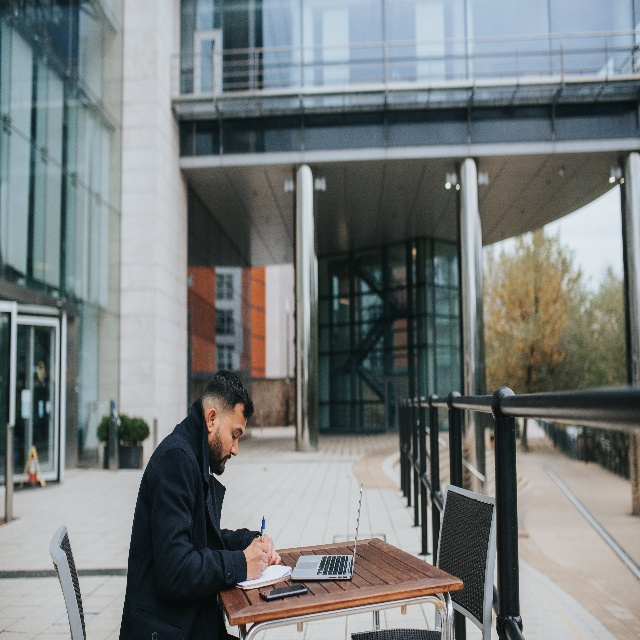Sin_guantes: (245, 537, 268, 580), (263, 531, 282, 565)
